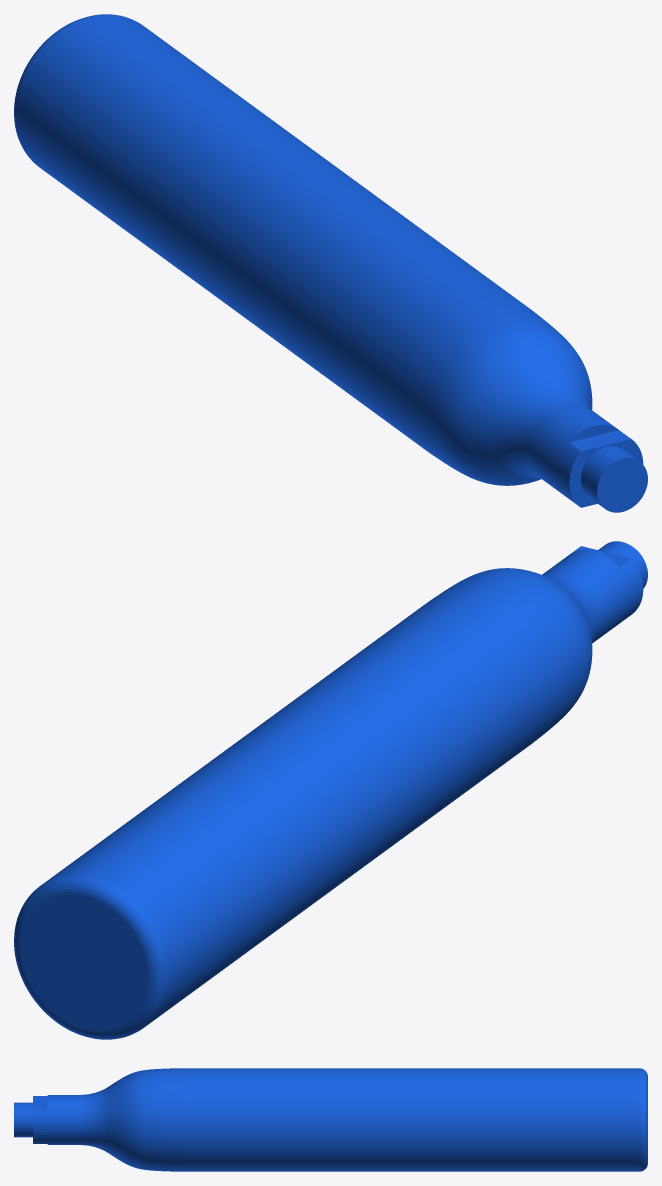
Rendered from cylinder_mockup_full_length_m.obj.
3 renders of one model, top to bottom at view 1: azimuth 30°, elevation 25°; view 2: azimuth 150°, elevation 25°; view 3: azimuth 270°, elevation 25°, orthographic. The views are drawn at different scales.
Bounding box in the file's own units: 0.0598 × 0.0598 × 0.3659.
